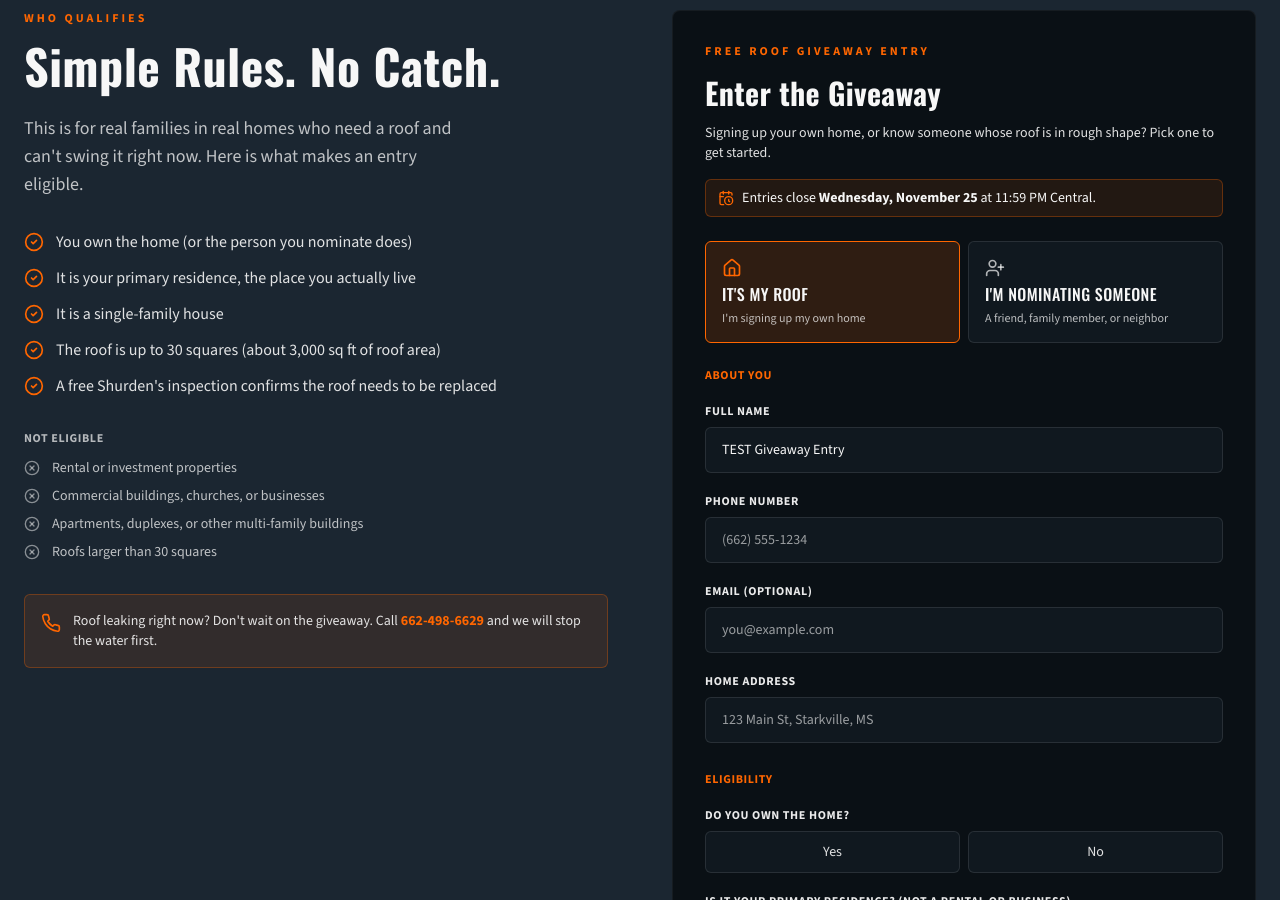
Scenario: posts to the dedicated giveaway webhook with split consent, channel data and no nulls
The image size is (1280, 900).
Earlier steps of the test are not shown.
(page scrolled)
Type "6625550123" into the field labelled "Phone Number".
click(964, 540); type("6625550123")  # box 705,517 -> 1223,563
Type "123 Test St, Tupelo, MS" into the field labelled "Home Address".
click(964, 720); type("123 Test St, Tupelo, MS")  # box 705,697 -> 1223,743
Click the radio button labelled "Yes".
click(832, 852)  # box 705,831 -> 960,873
(page scrolled)
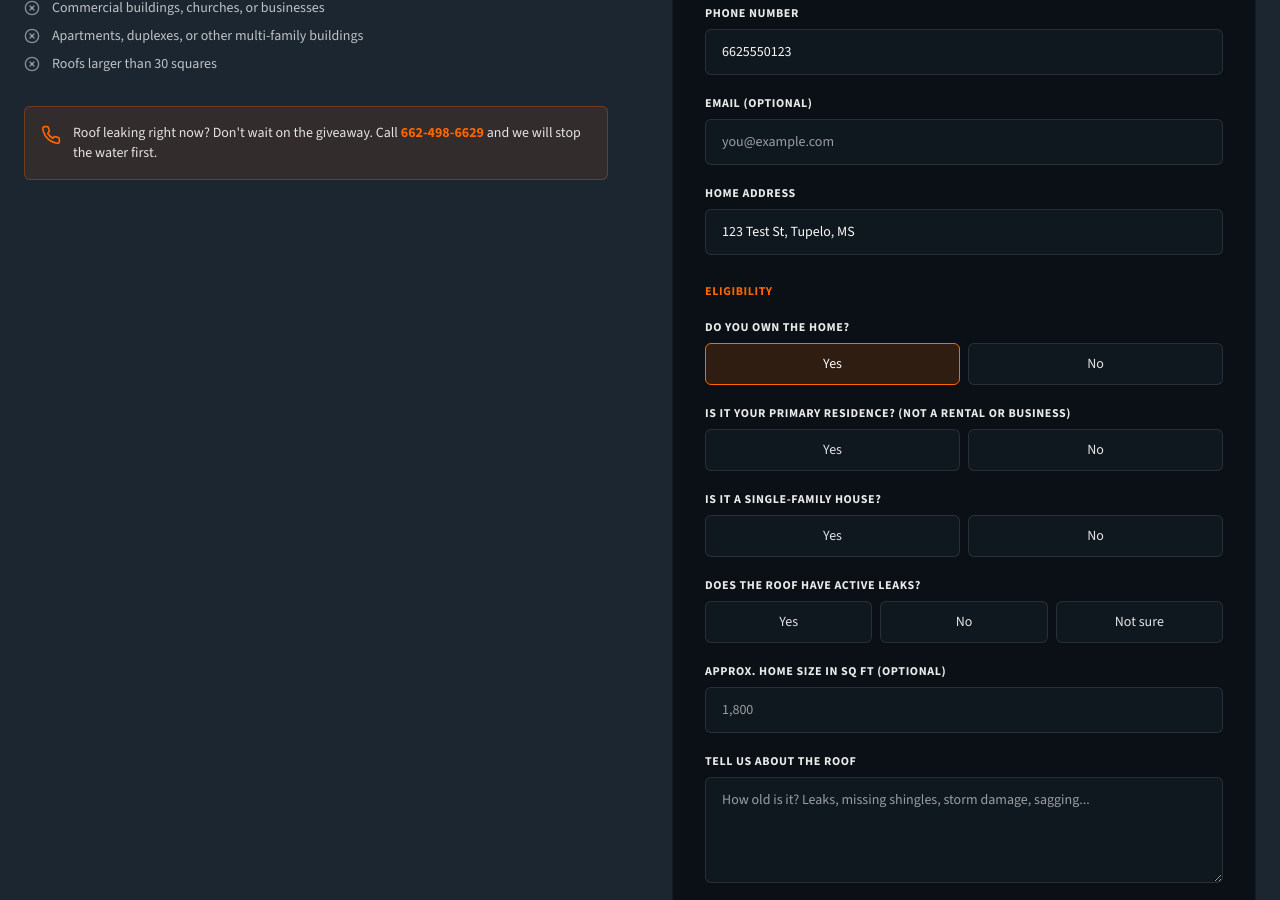
Click the 2nd radio button labelled "Yes".
click(832, 450)  # box 705,429 -> 960,471
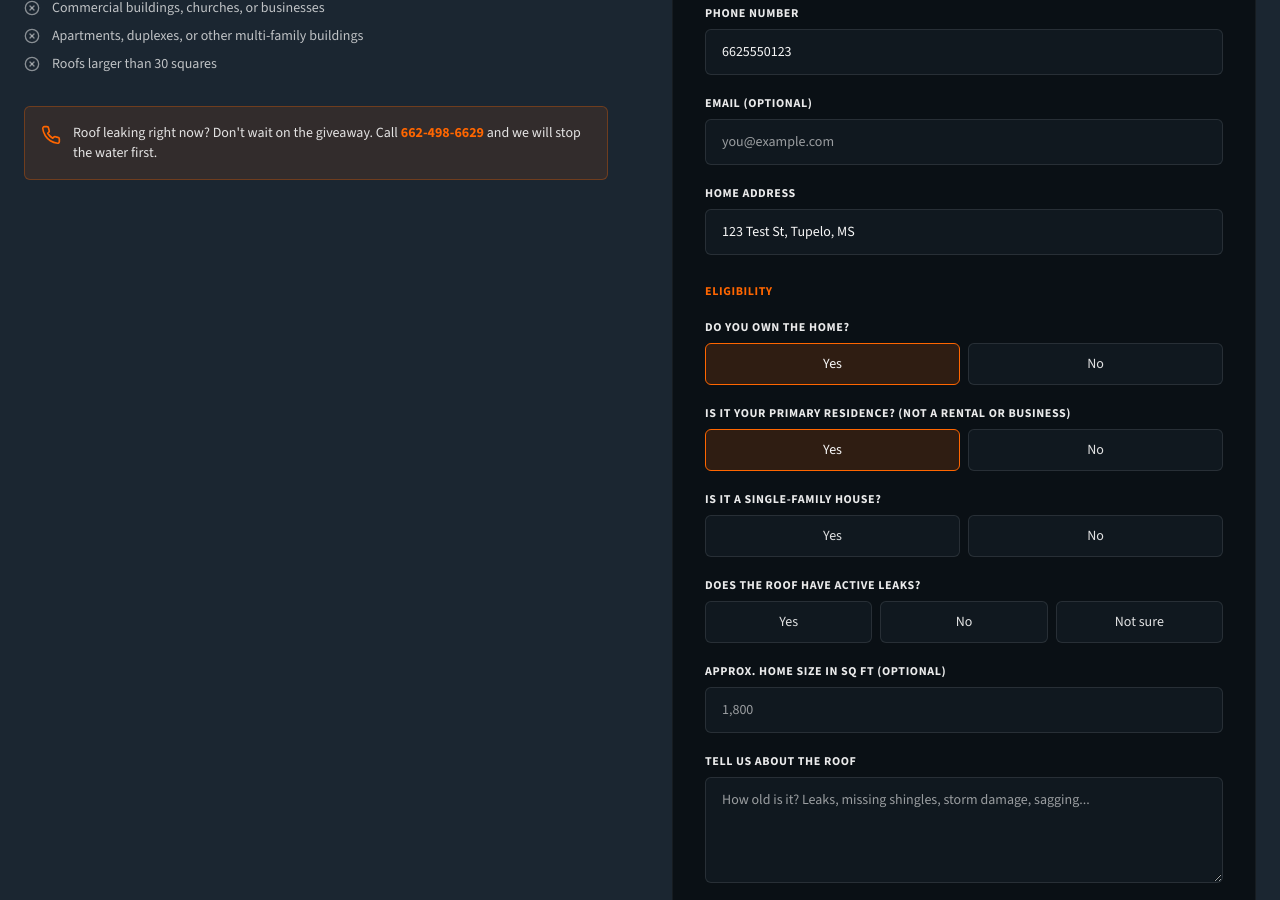
Click the radio button labelled "Yes" below "Is it a single-family house?".
click(832, 536)  # box 705,515 -> 960,557
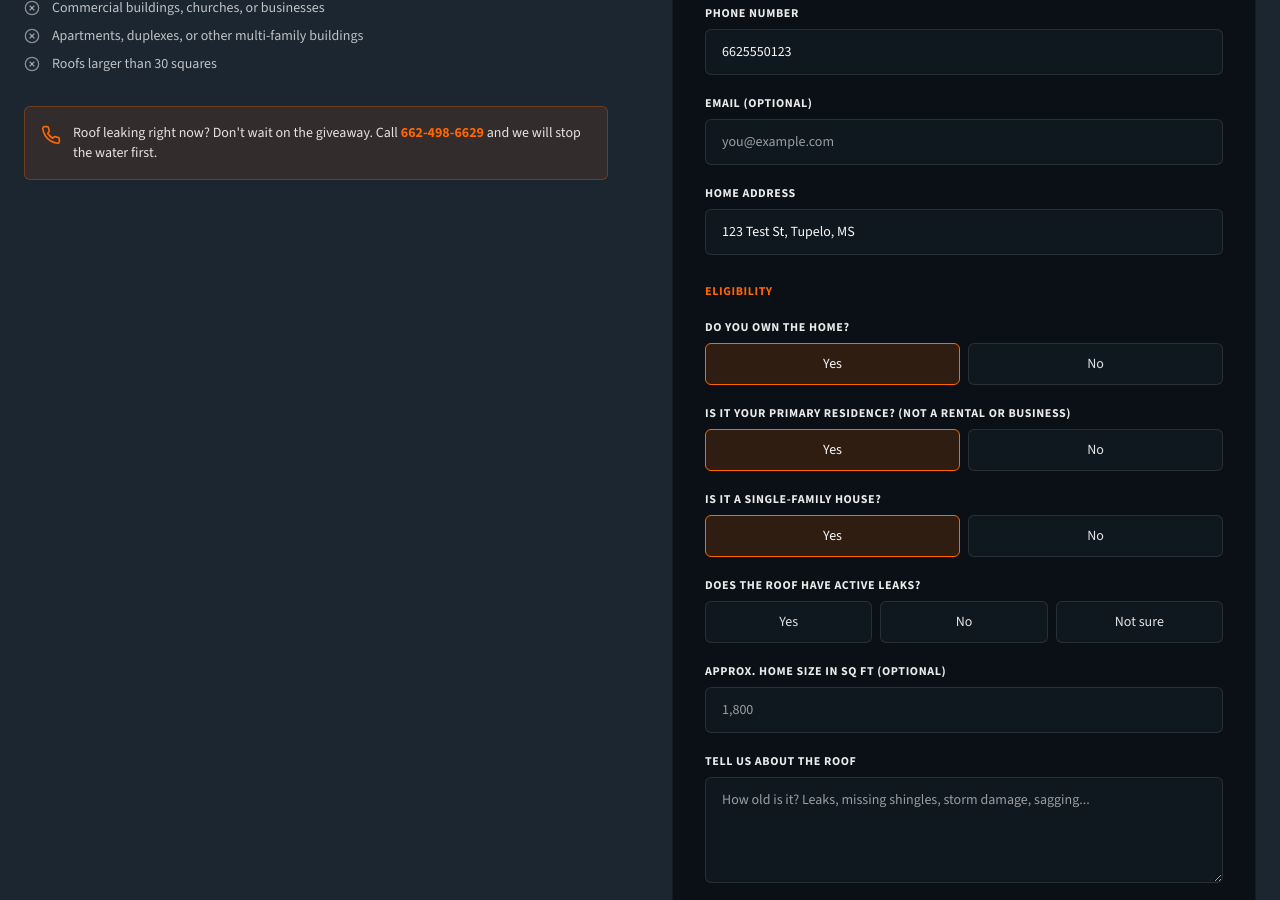
Click the radio button labelled "Not sure".
click(1139, 622)  # box 1056,601 -> 1223,643
(page scrolled)
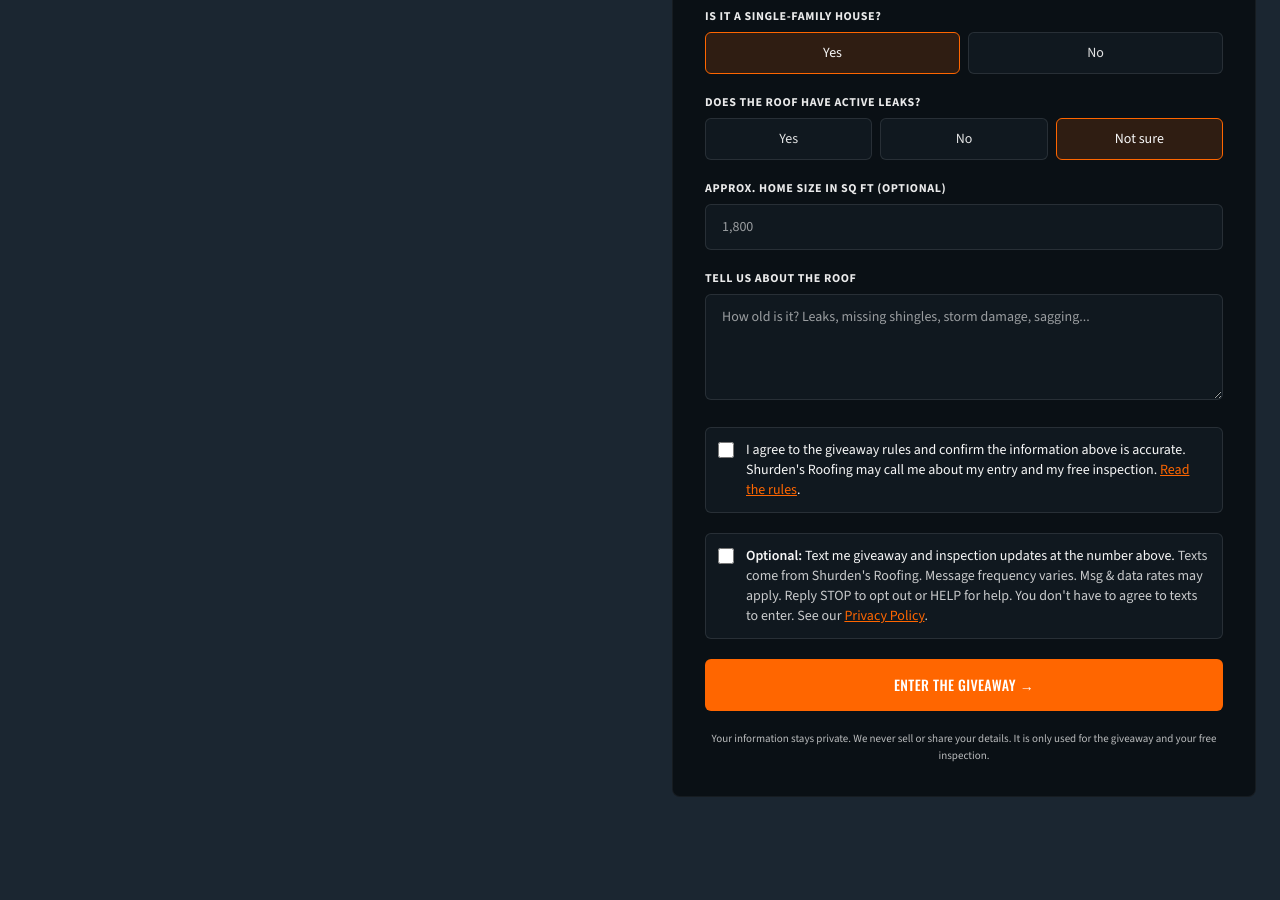
Click the checkbox labelled "I agree to the giveaway rules".
click(726, 450)  # box 718,442 -> 734,458
(page scrolled)
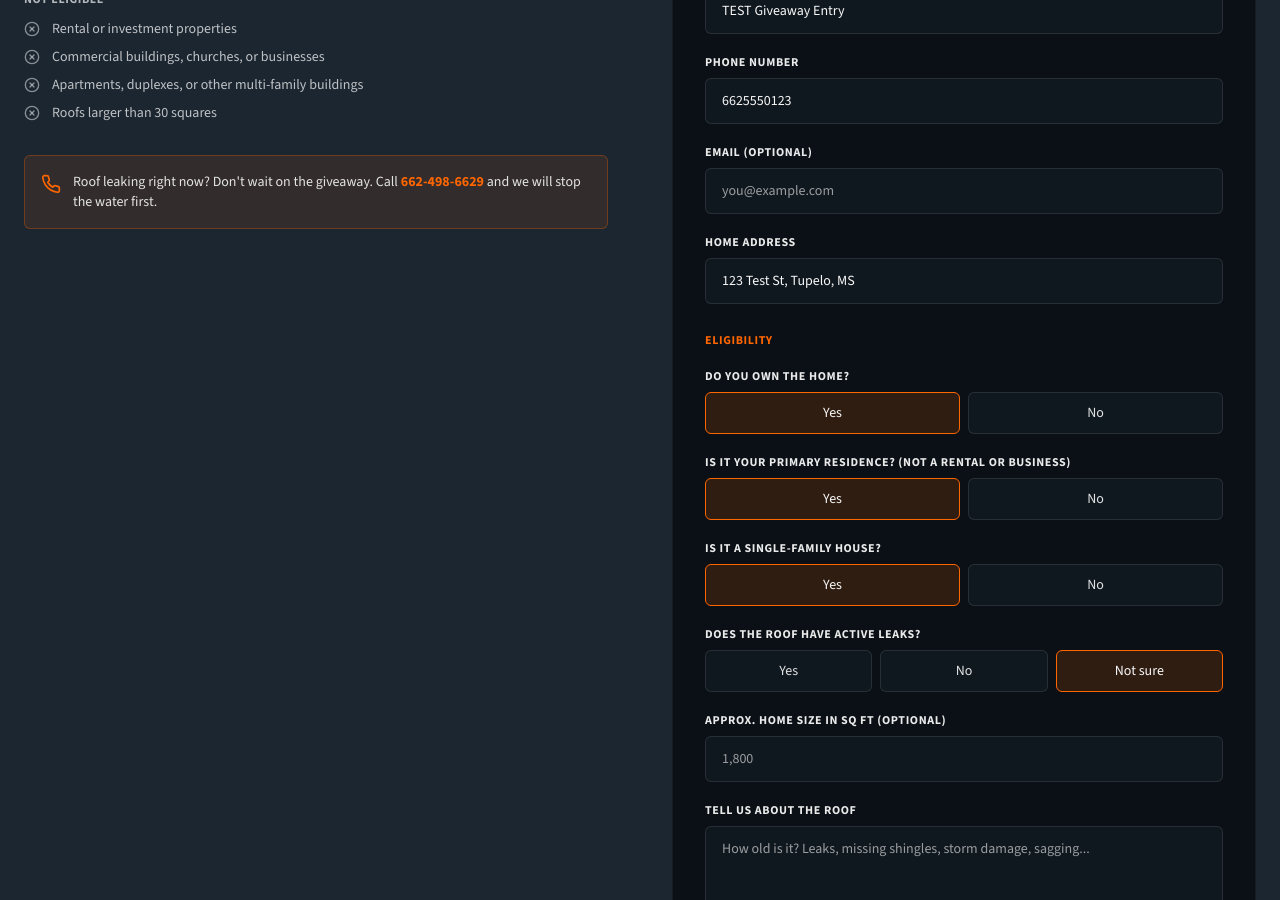
Submit the form "Enter the Giveaway"
(page scrolled)
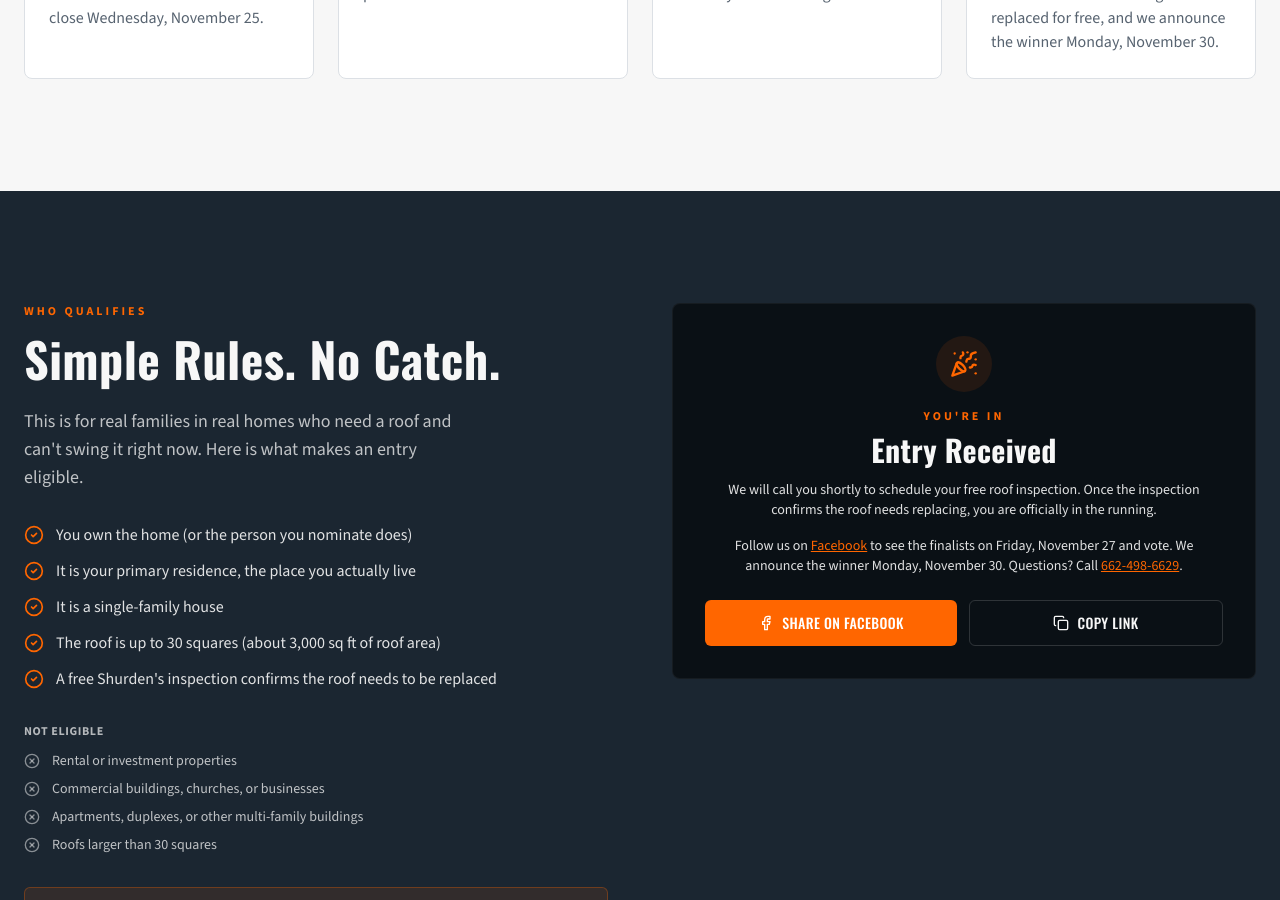
Check: the heading "Entry Received" is shown, box 871,427 -> 1057,472
